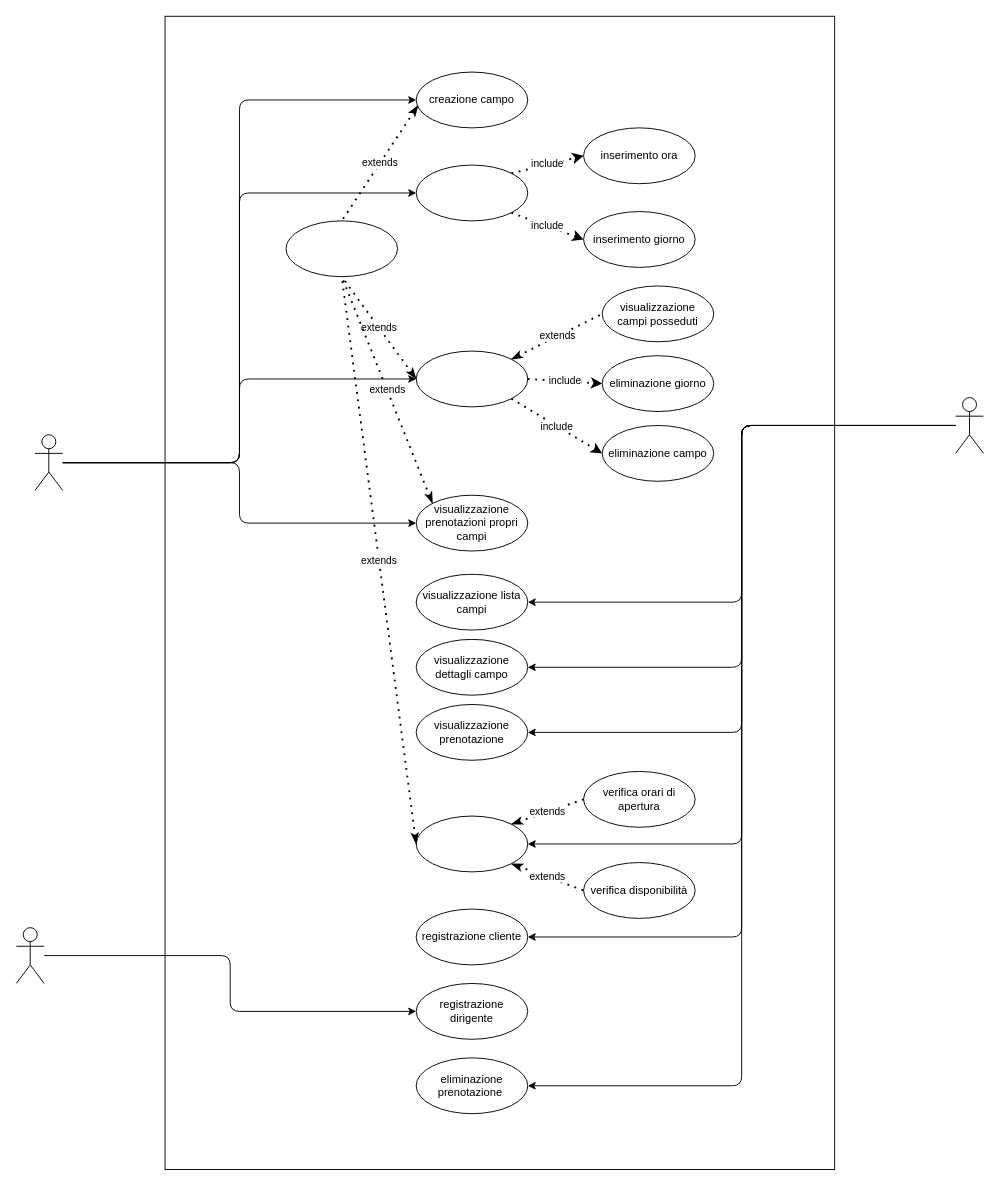
This 1002x1186 diagram has some shape labels left out. The box of each missing label's shape, as (x1, y1, x2, y2) in pixels:
Dirigente: (34, 434, 63, 491)
gestire campi: (415, 350, 528, 407)
inserimento disponibilità: (415, 164, 528, 221)
login: (285, 220, 398, 277)
prenotazione campo: (415, 815, 528, 872)
Staff: (15, 927, 44, 983)
Utente: (955, 397, 983, 453)
